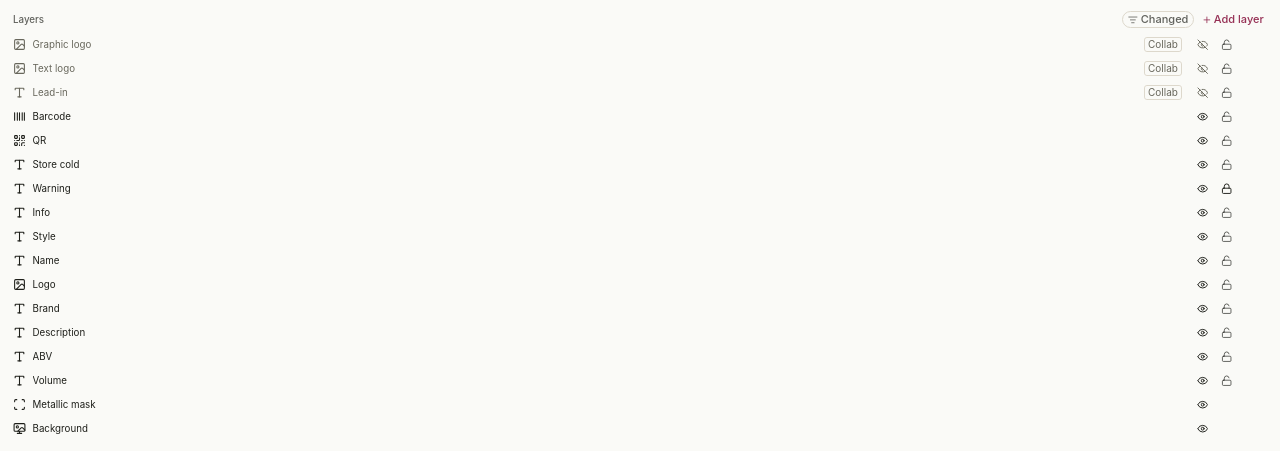
Test: LayerList › double-click renames even though pointerdown captured the pointer on the row button (#115)
Step 1. Press the mouse on the button "Barcode" → (52, 116), box [6,105,1189,128]
Step 2. Double-click the button "Barcode" → (52, 116), box [6,105,1189,128]
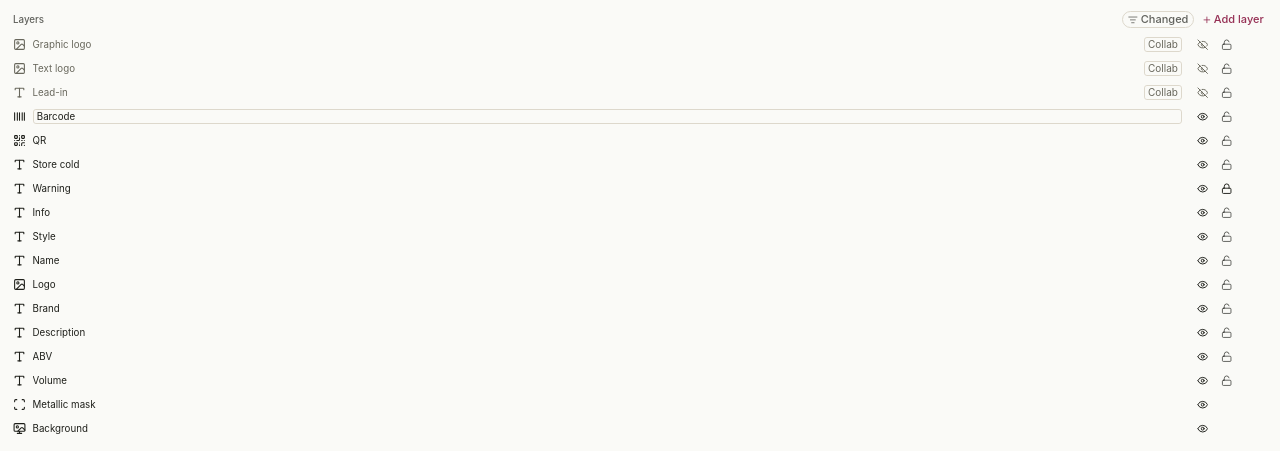
Expected: the field named "Rename Barcode" is shown, [32,109,1182,124]
